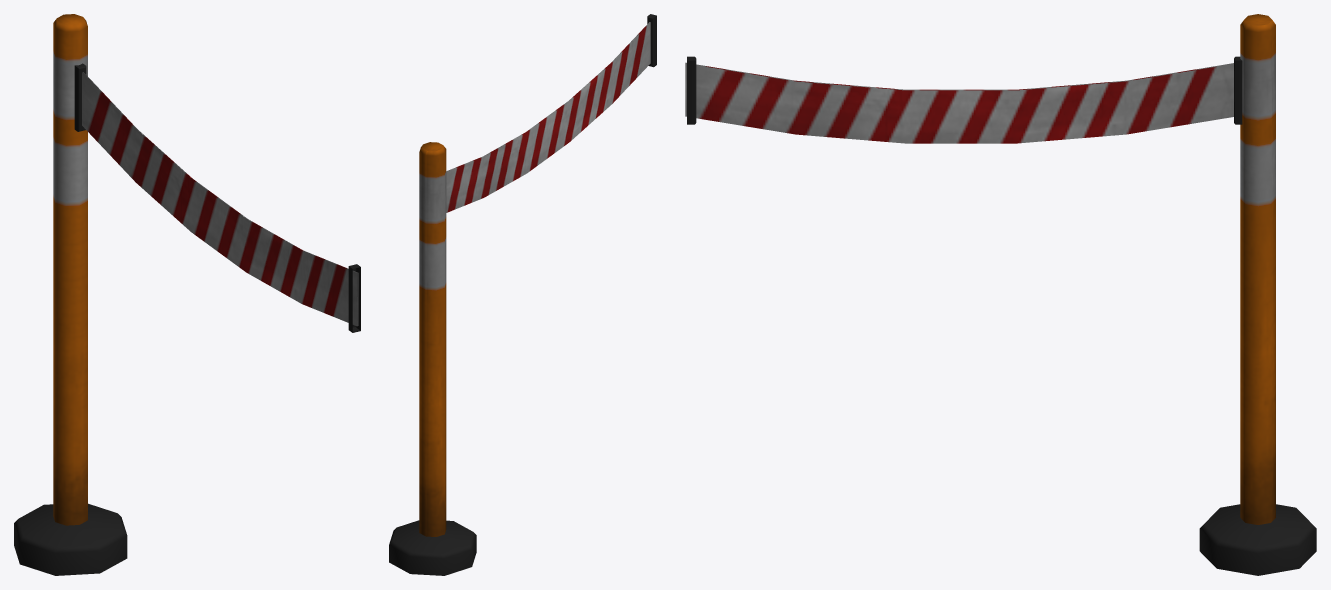
File: Traffic_Pole_A_B.fbx
3 views of the same model, side by side, from view 1: azimuth 30°, elevation 25°; view 2: azimuth 150°, elevation 25°; view 3: azimuth 270°, elevation 25° (orthographic). The views are drawn at different scales.
Parts seen in each view (by area): view 1: Traffic_Pole_A_B; view 2: Traffic_Pole_A_B; view 3: Traffic_Pole_A_B.
Boxes of the visible parts, x1,y1,x2,y2 form: Traffic_Pole_A_B: (14, 14, 360, 575); Traffic_Pole_A_B: (389, 14, 656, 575); Traffic_Pole_A_B: (685, 14, 1316, 575).
Bounding box in the file's own units: 20 × 100 × 108.
